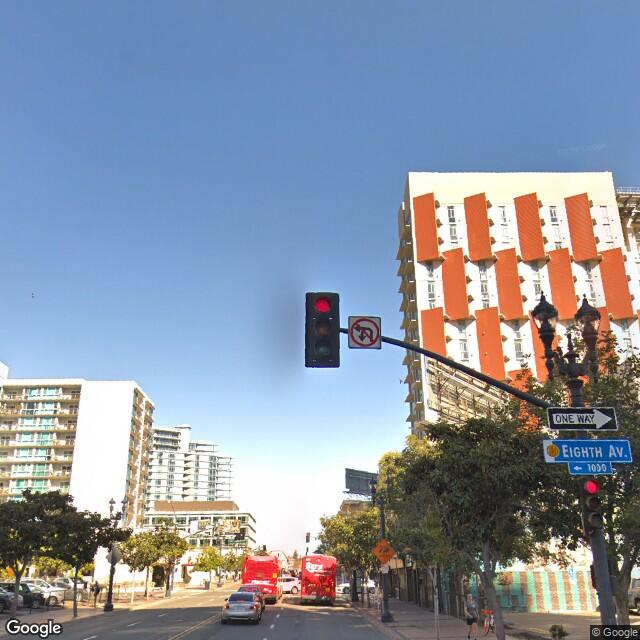light: (573, 297, 601, 345), (533, 297, 557, 340)
window: (478, 263, 490, 278), (514, 343, 523, 360), (448, 202, 455, 223)
